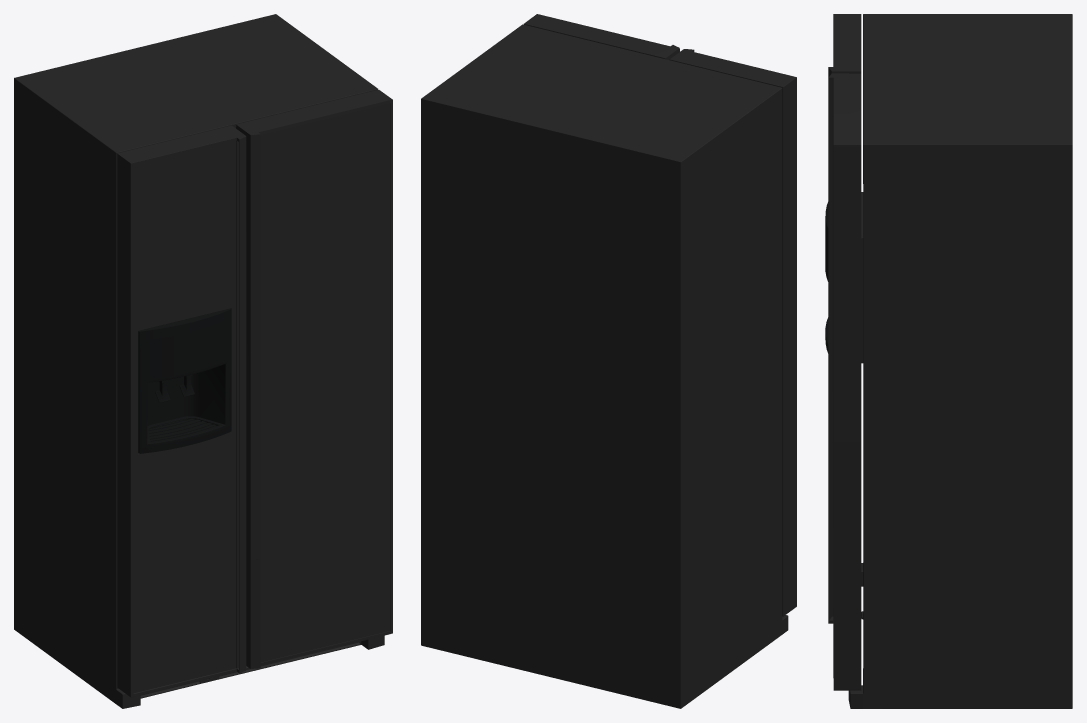
The model's file is Fridge001.FBX.
3 renders of one model, left to right at view 1: azimuth 30°, elevation 25°; view 2: azimuth 150°, elevation 25°; view 3: azimuth 270°, elevation 25°, orthographic. The views are drawn at different scales.
Visible parts, largest first — view 1: Fridge001; view 2: Fridge001; view 3: Fridge001.
Part boxes in pixels (x1,y1,x2,y2): Fridge001: (14,14,392,708); Fridge001: (421,14,796,708); Fridge001: (825,14,1072,708).
Bounding box in the file's own units: 3.85 × 7.75 × 3.08.
2 materials, 2 textured.
